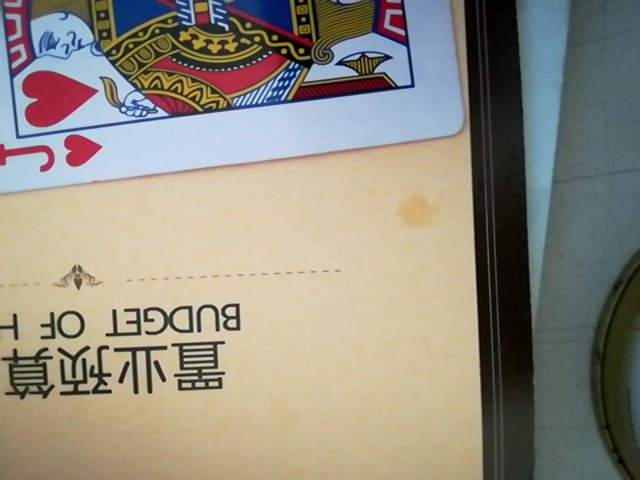hx j: (0, 3, 466, 195)
